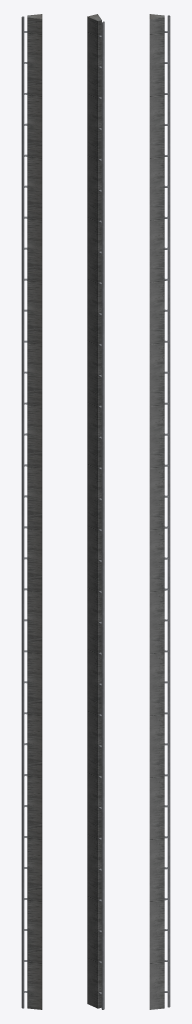
The model's file is cpb-segment_lod.fbx.
3 renders of one model, left to right at view 1: azimuth 90°, elevation 25°; view 2: azimuth 210°, elevation 25°; view 3: azimuth 270°, elevation 25°, orthographic.
Parts seen in each view (by area): view 1: cpb-segment-lod; view 2: cpb-segment-lod; view 3: cpb-segment-lod.
Boxes of the visible parts, x1=… form: cpb-segment-lod: x1=21, y1=14, x2=42, y2=1009; cpb-segment-lod: x1=87, y1=14, x2=104, y2=1009; cpb-segment-lod: x1=149, y1=14, x2=170, y2=1009.
Size of the model in its own units: 70 by 6400 by 121.
Materials: 1 (1 with a texture image).
